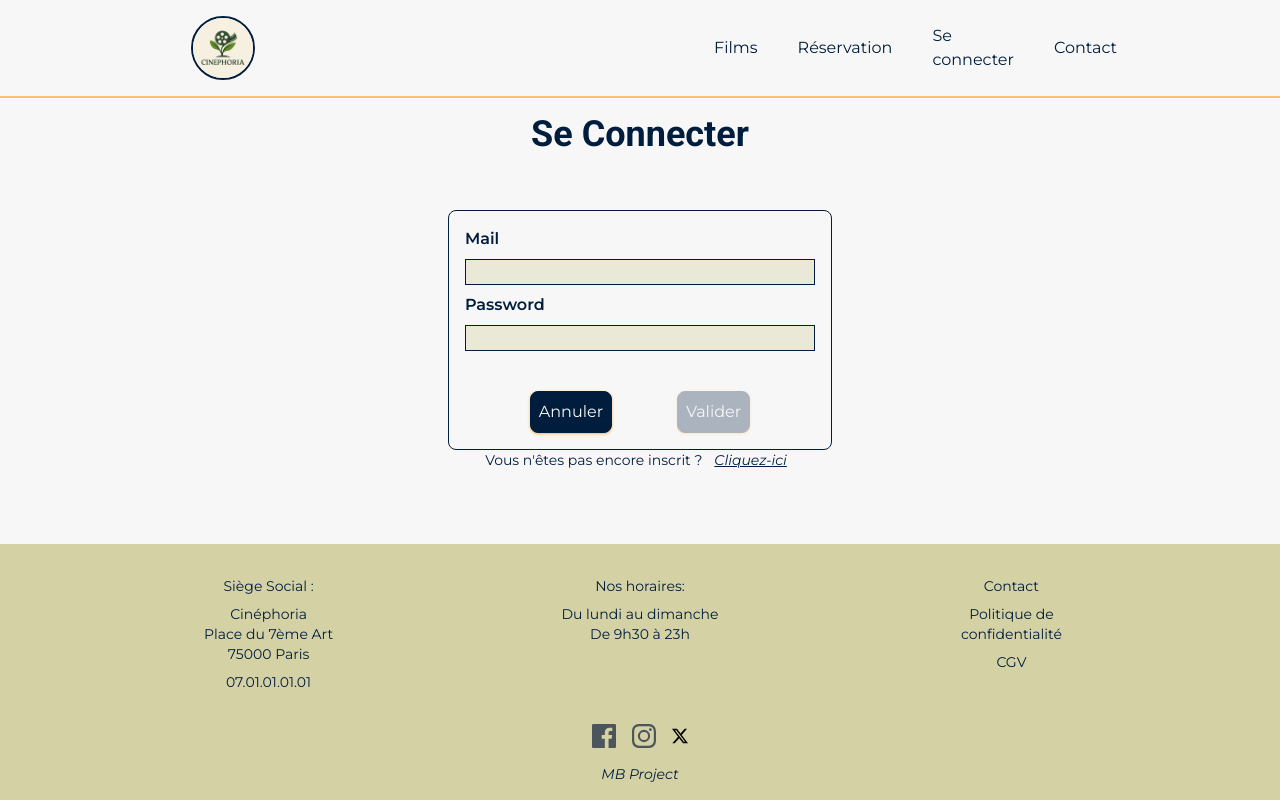
it: Login Flow › should login successfully with valid credentials admin and display right header
The image size is (1280, 800).
Type "admin.user@gmail.com" into the field at (640, 272), box [465, 259, 815, 285]
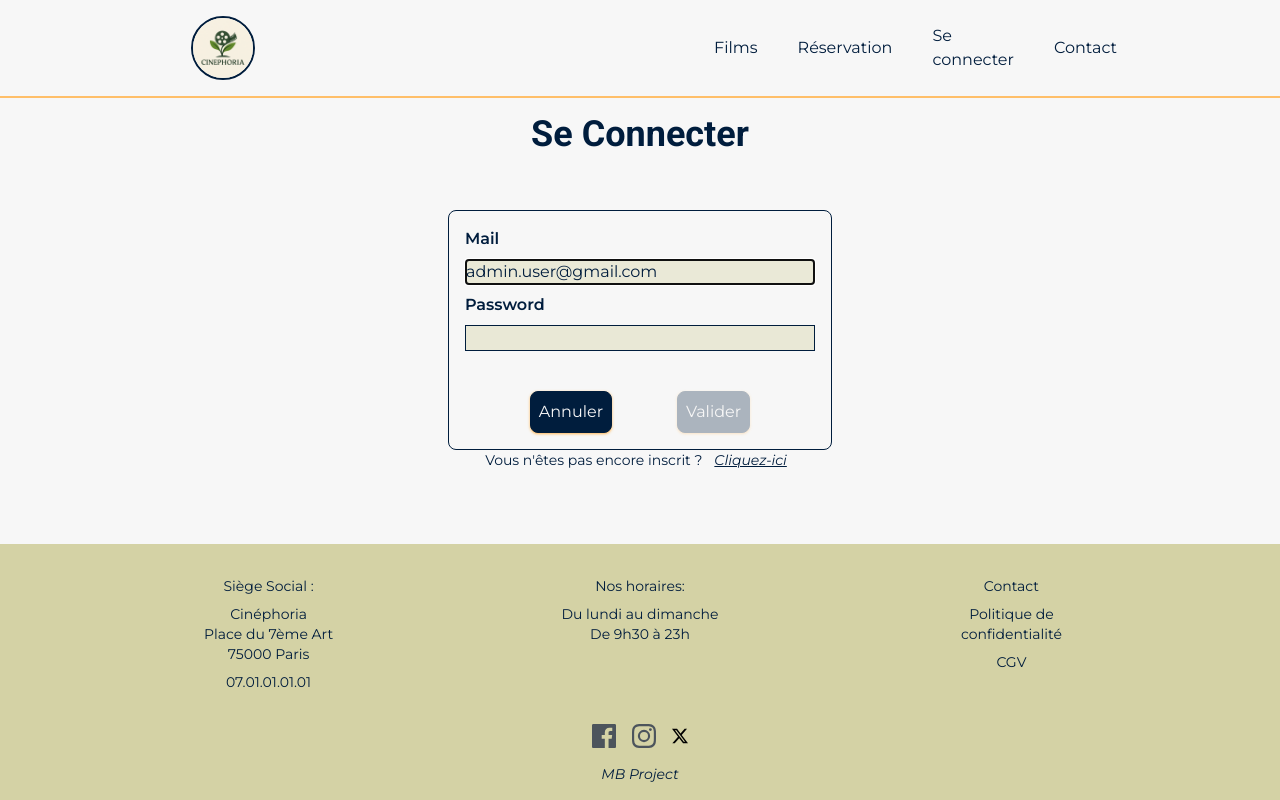
Type "Qsdfghjklm&2" into the password field at (640, 338), box [465, 325, 815, 351]
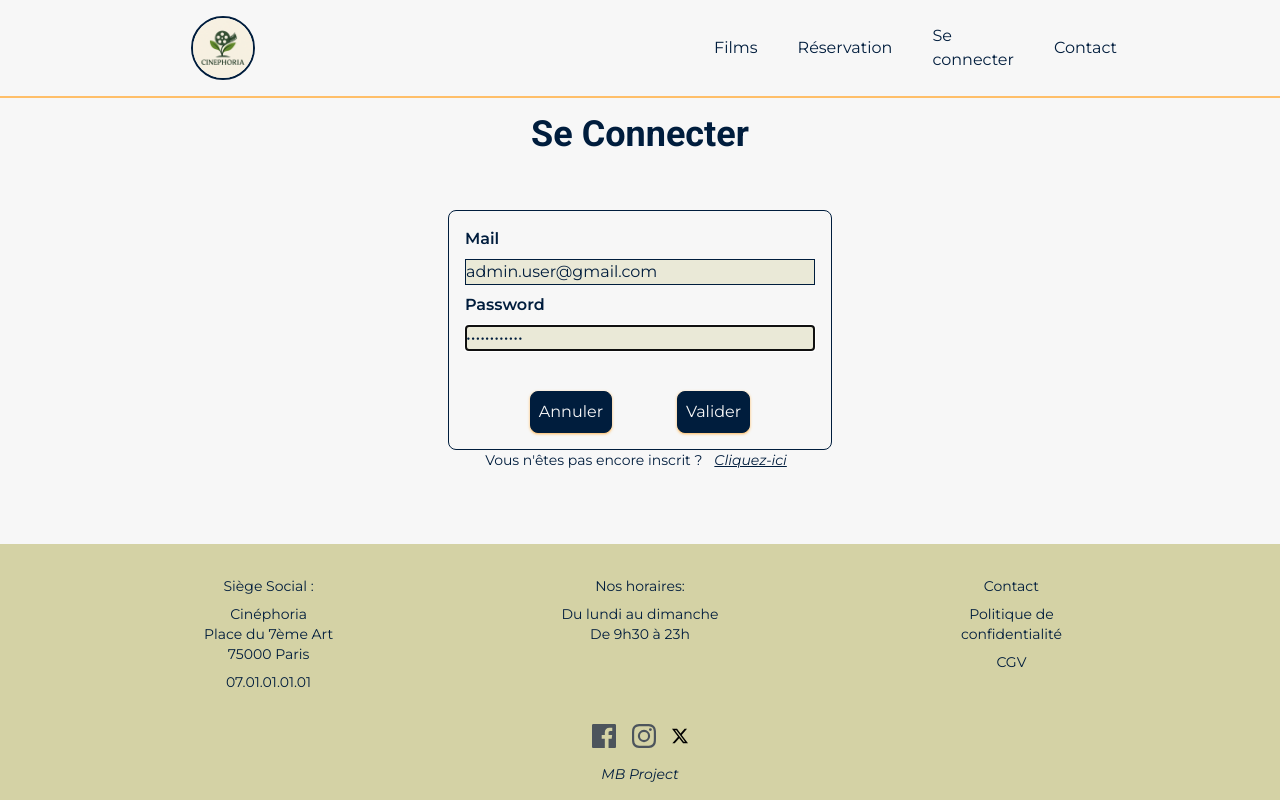
Click the button with test id "submit-form-btn" at (714, 412), box [677, 391, 750, 433]
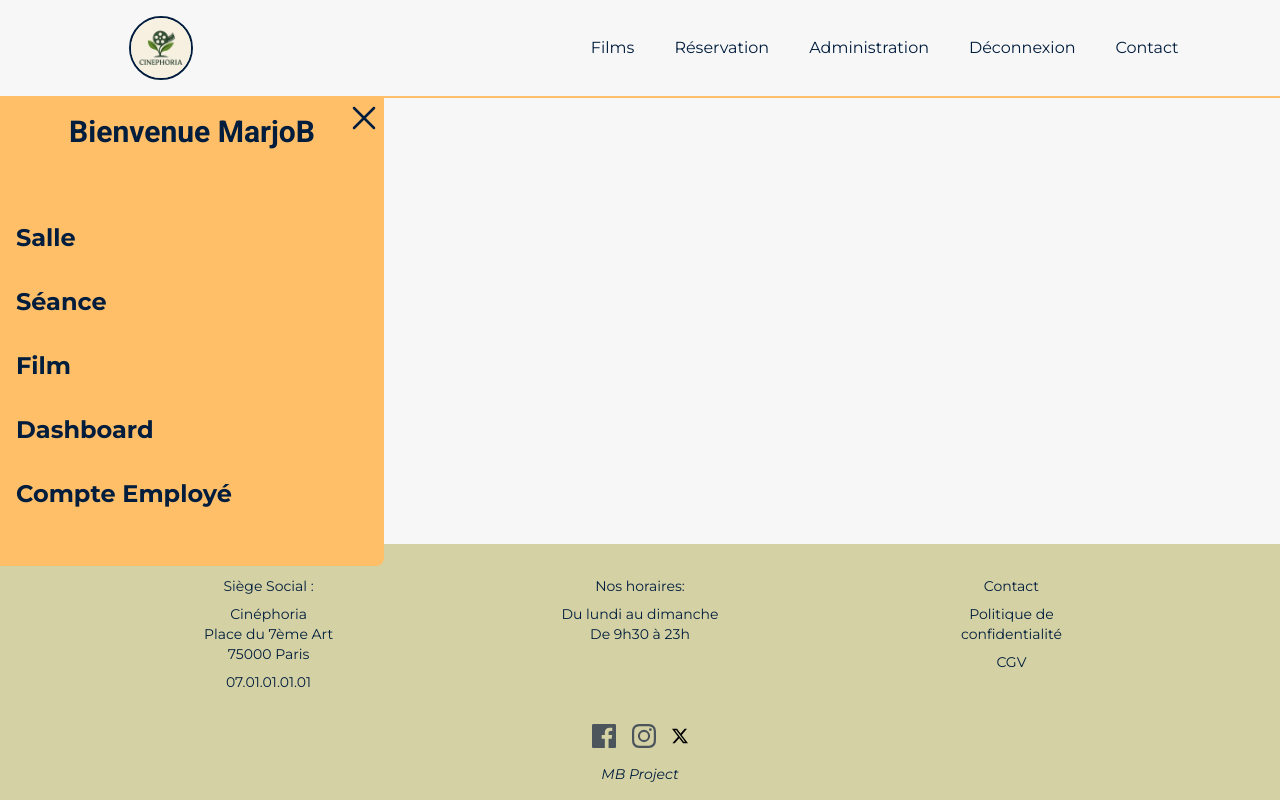
Now the heading with test id "welcome-message" shows "Bienvenue", box [69, 114, 315, 149]
Now the text with test id "navbar-logout" reads "Déconnexion", box [969, 38, 1076, 57]
Now the text with test id "navbar-administration" reads "Administration", box [809, 38, 929, 57]
